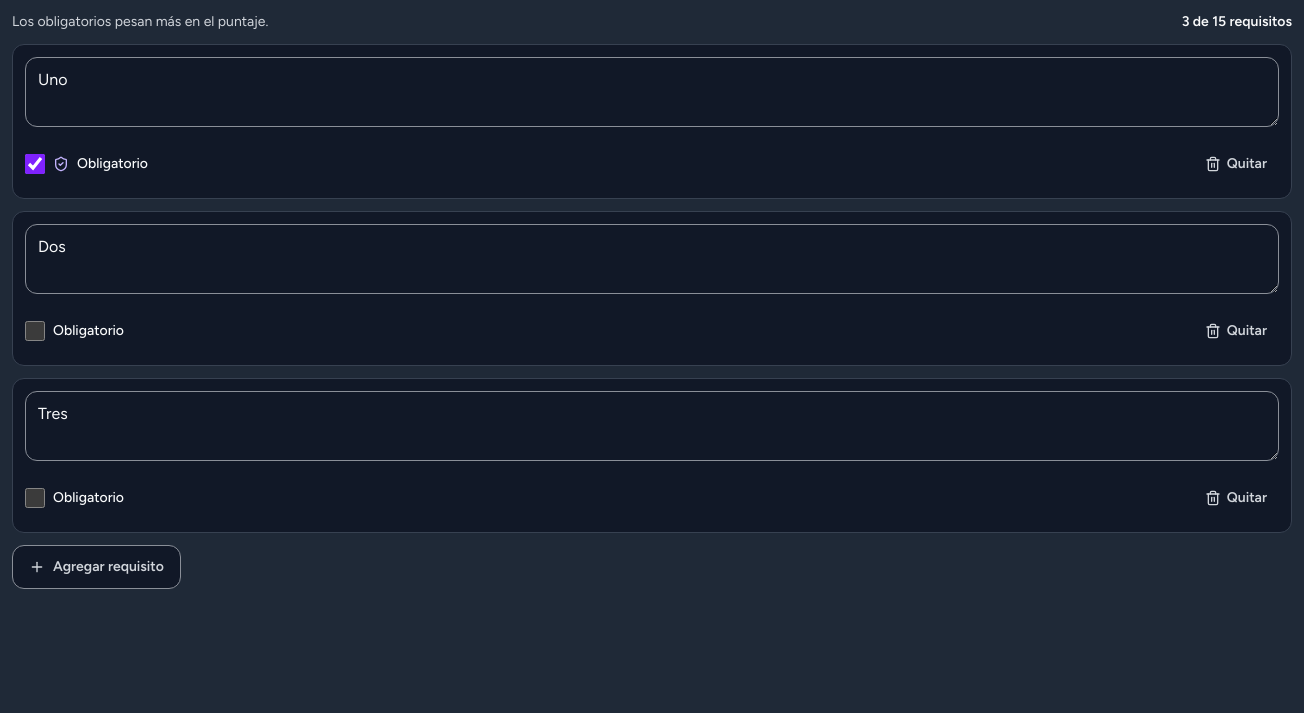
Scenario: CVRequirementCards › agregar enfoca la nueva tarjeta
Click the button "Agregar requisito" at (96, 567), box [12,545,181,589]
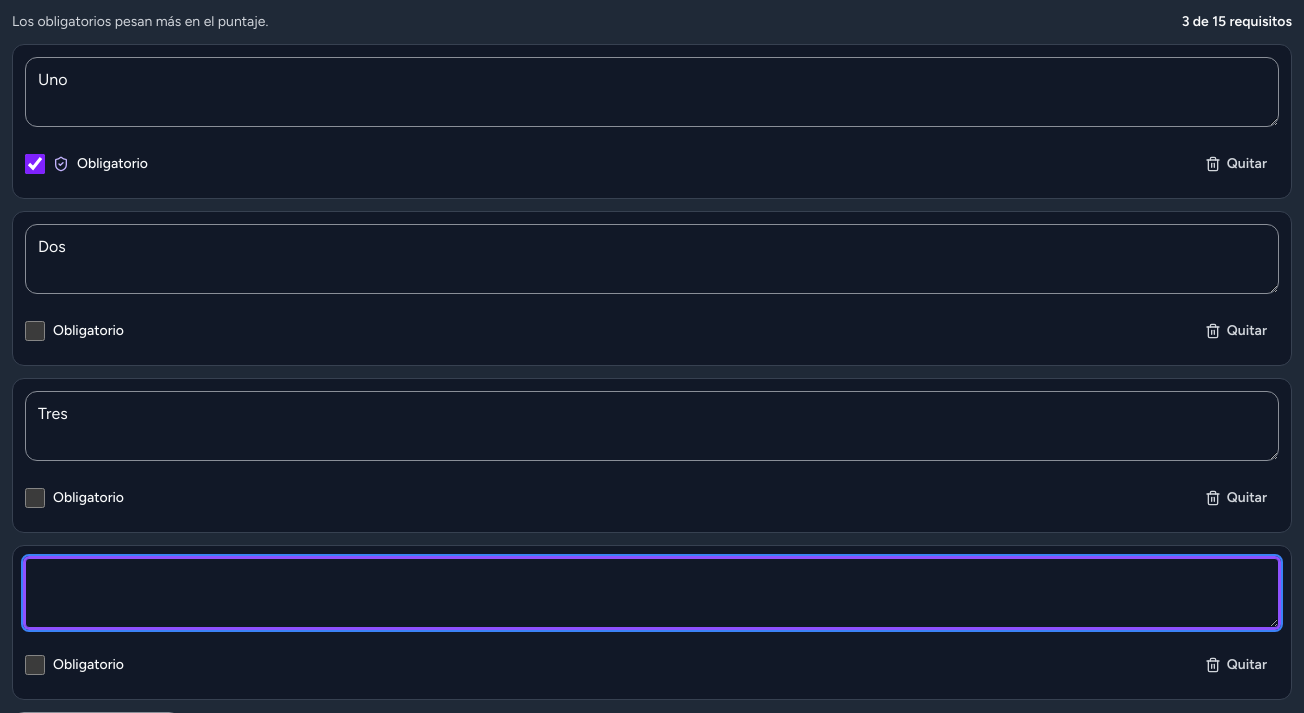
Expected: the number of text boxes is 4, [25,57,1279,127]; [25,224,1279,294]; [25,391,1279,461]; [25,558,1279,628]
